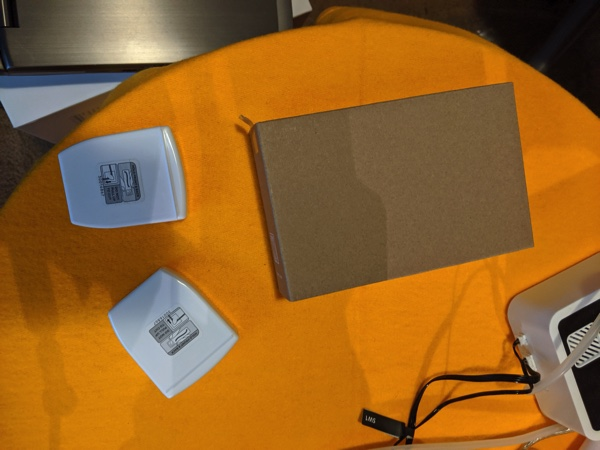cardboard: (226, 74, 557, 319)
plastic: (98, 259, 251, 406), (48, 118, 198, 235)
